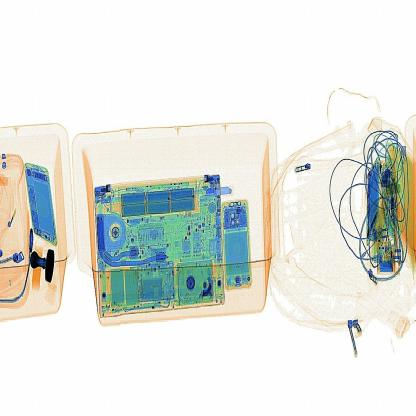pliers: (200, 175, 236, 203)
